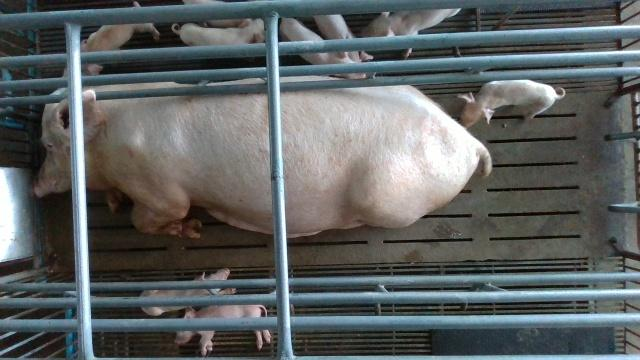piglet: (63, 1, 159, 75), (457, 79, 566, 127), (279, 17, 363, 79), (360, 9, 463, 59), (174, 305, 271, 357), (140, 267, 237, 316), (313, 14, 374, 63), (171, 17, 265, 44)
sow-sleep: (35, 74, 491, 238)
